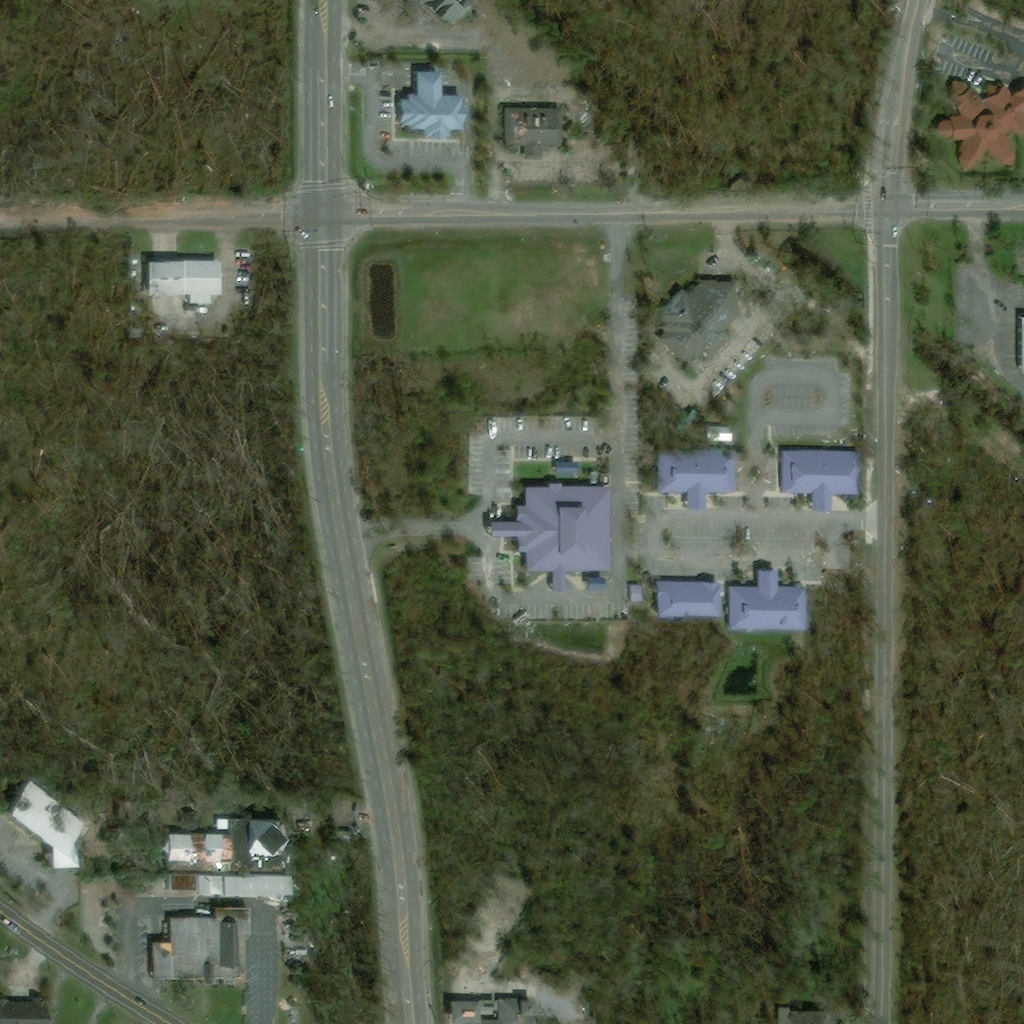major_damage: (157, 819, 284, 894)
minor_damage: (654, 276, 741, 361), (149, 906, 243, 983), (505, 97, 557, 157)
no_damage: (485, 486, 611, 594), (933, 83, 1023, 174), (0, 778, 81, 866), (657, 450, 734, 512), (780, 449, 854, 511), (392, 70, 459, 137), (727, 570, 800, 631), (143, 260, 216, 303), (653, 582, 715, 615), (447, 1001, 537, 1023), (416, 0, 471, 24), (0, 999, 45, 1023), (774, 1006, 826, 1023), (704, 424, 731, 441), (1015, 316, 1023, 373), (182, 815, 199, 832), (555, 462, 577, 474), (630, 587, 645, 603), (584, 578, 601, 589), (393, 0, 410, 5)
